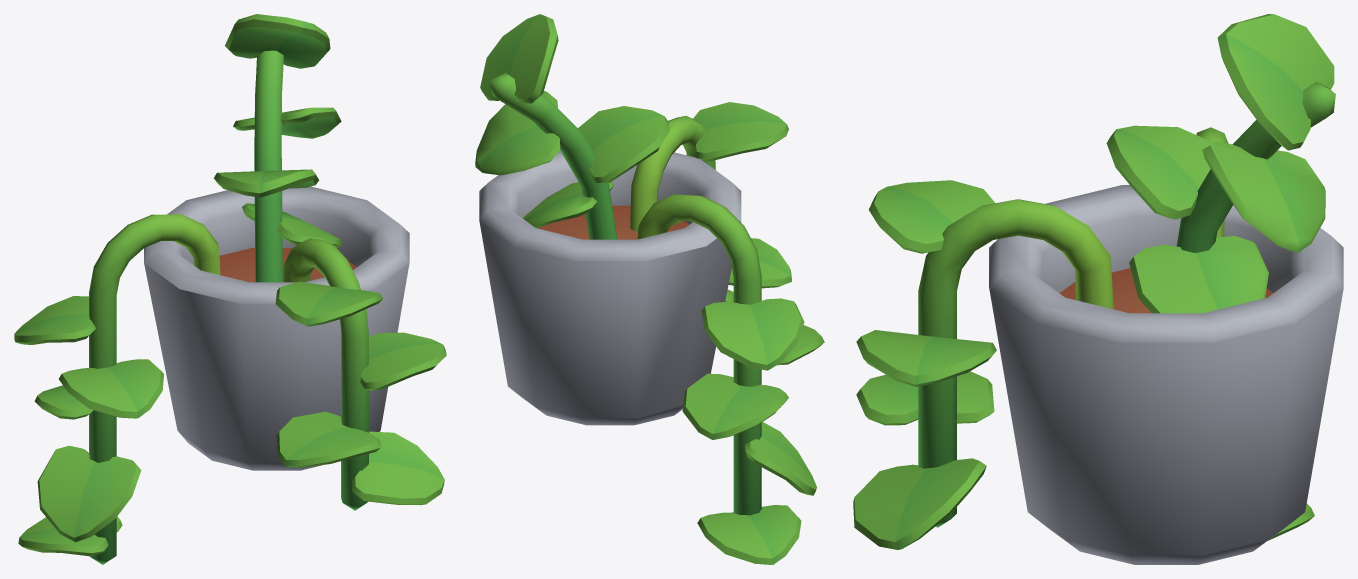
File: pothos-plant-small.glb
The picture shows the model from 3 angles, left to right: view 1: azimuth 30°, elevation 25°; view 2: azimuth 150°, elevation 25°; view 3: azimuth 270°, elevation 25°; orthographic projection. The views are drawn at different scales.
Parts seen in each view (by area): view 1: pothos_plant_small_potted; view 2: pothos_plant_small_potted; view 3: pothos_plant_small_potted.
Boxes of the visible parts, x1,y1,x2,y2 form: pothos_plant_small_potted: (14, 14, 446, 564); pothos_plant_small_potted: (475, 14, 824, 564); pothos_plant_small_potted: (853, 14, 1343, 564).
Bounding box in the file's own units: 0.7209 × 1.01 × 0.6833.
1 material, 1 textured.
